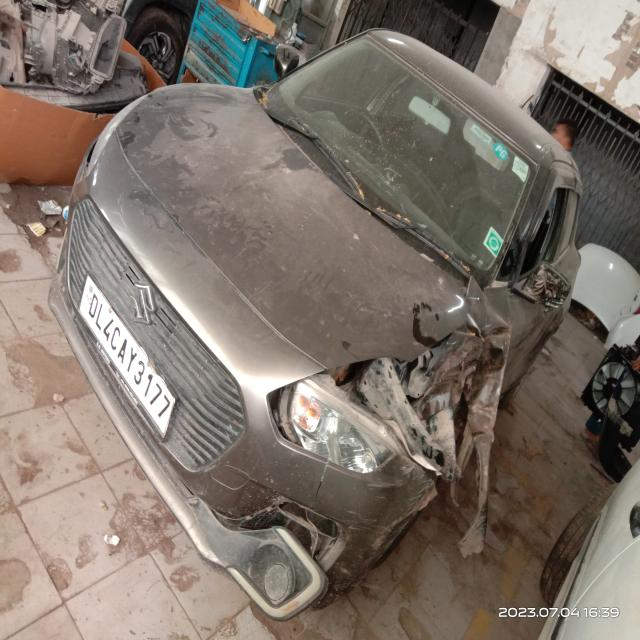damage: (330, 321, 512, 485), (253, 481, 341, 601), (263, 375, 304, 453), (464, 274, 510, 330), (527, 258, 570, 310), (312, 461, 335, 500)
